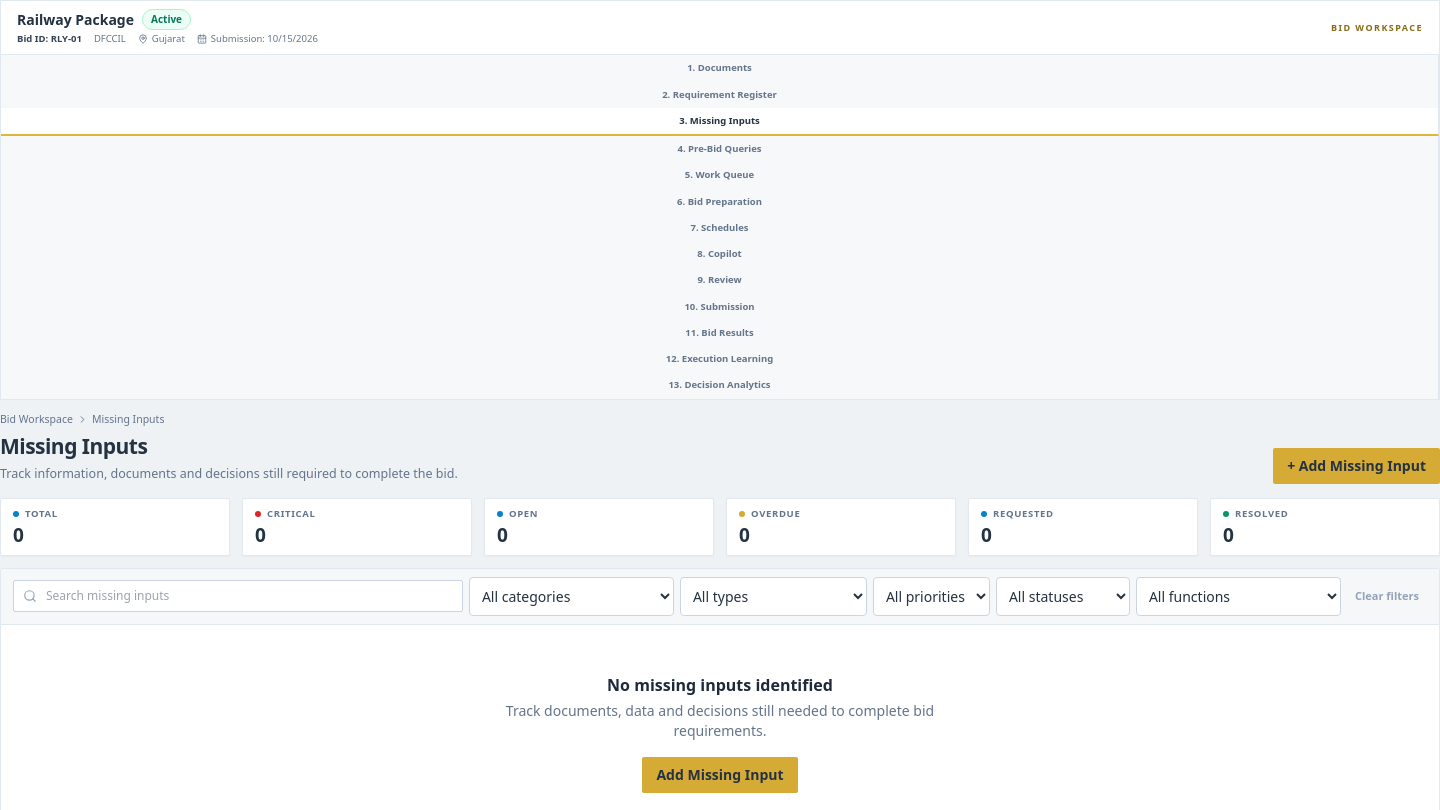
Test: renders empty state and validates add drawer
The image size is (1440, 810).
Expected: the text "No missing inputs identified" is shown, [607,674,833,696]
Expected: the heading "Railway Package" is shown, [17,10,134,29]
Click the button "+ Add Missing Input" at (1357, 466), box [1273,448,1439,484]
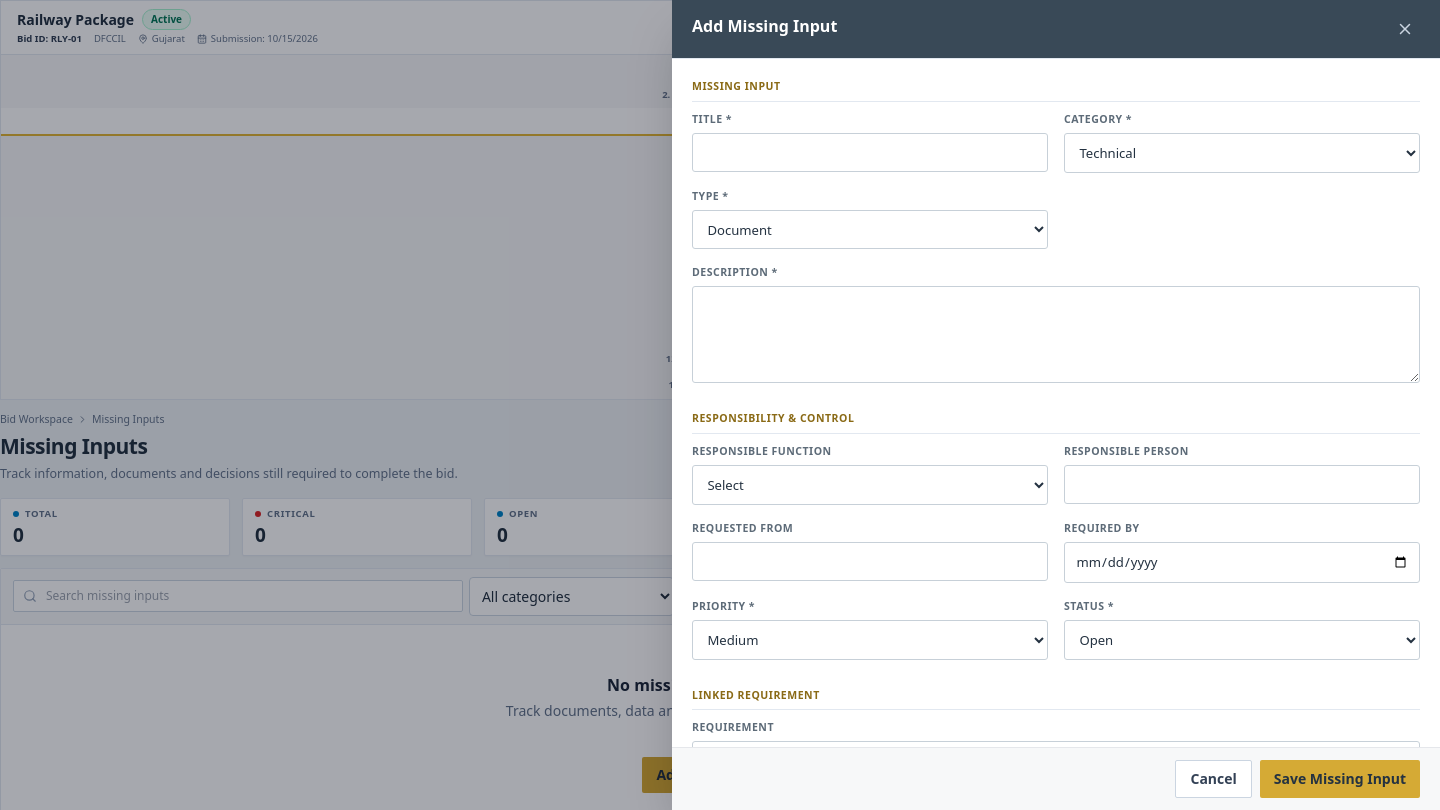
Now the dialog "Add Missing Input" is shown
Click the button "Save Missing Input" at (1340, 779), box [1260,760,1420,798]
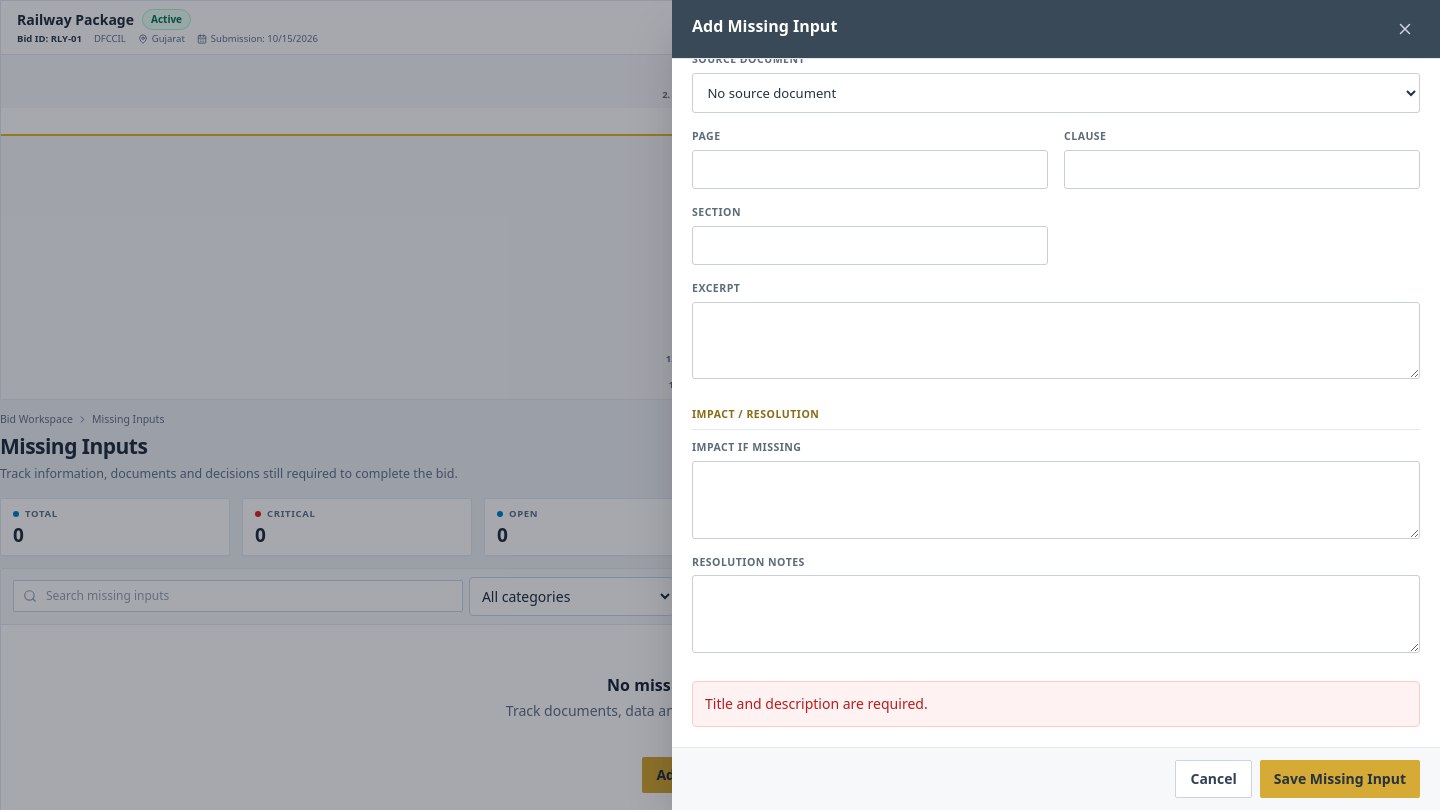
Now the text "Title and description are required." is shown, box [705,694,928,713]
